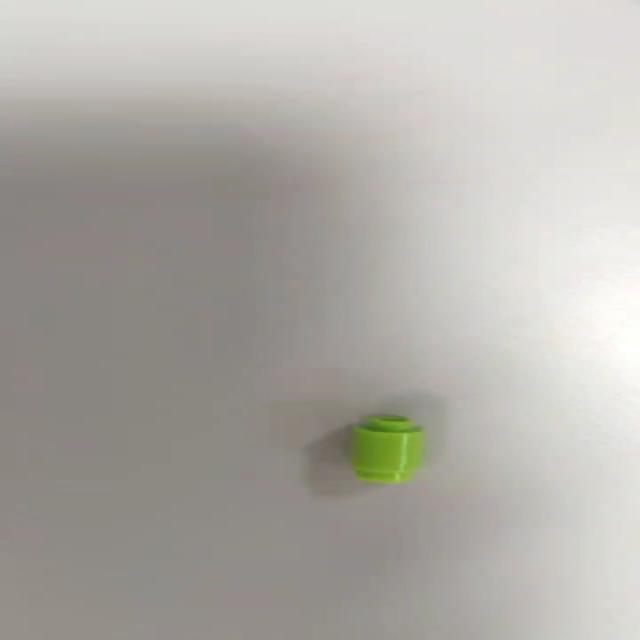S1x1x1: (351, 417, 425, 483), (356, 418, 430, 480)
